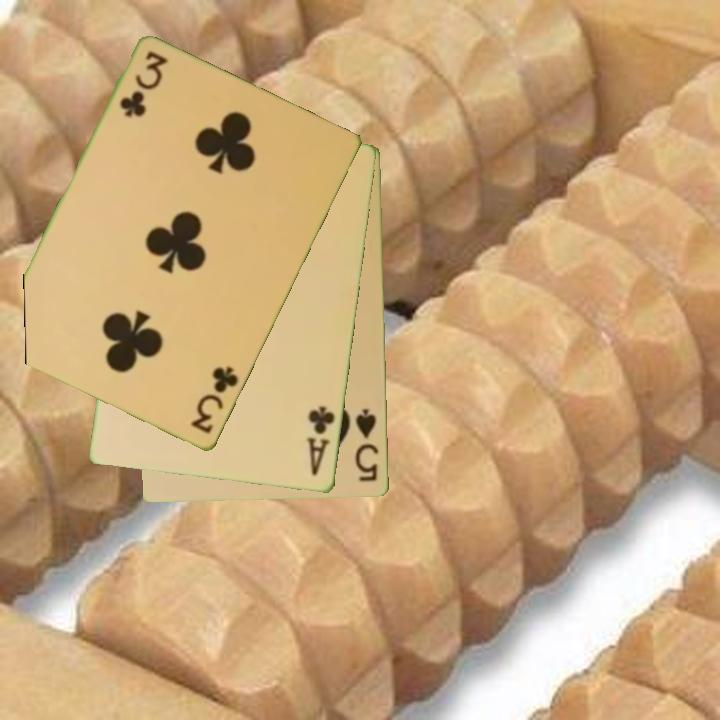3c: (187, 363, 242, 437), (116, 48, 170, 121)
5s: (352, 405, 382, 485)
Ac: (303, 403, 338, 480)
